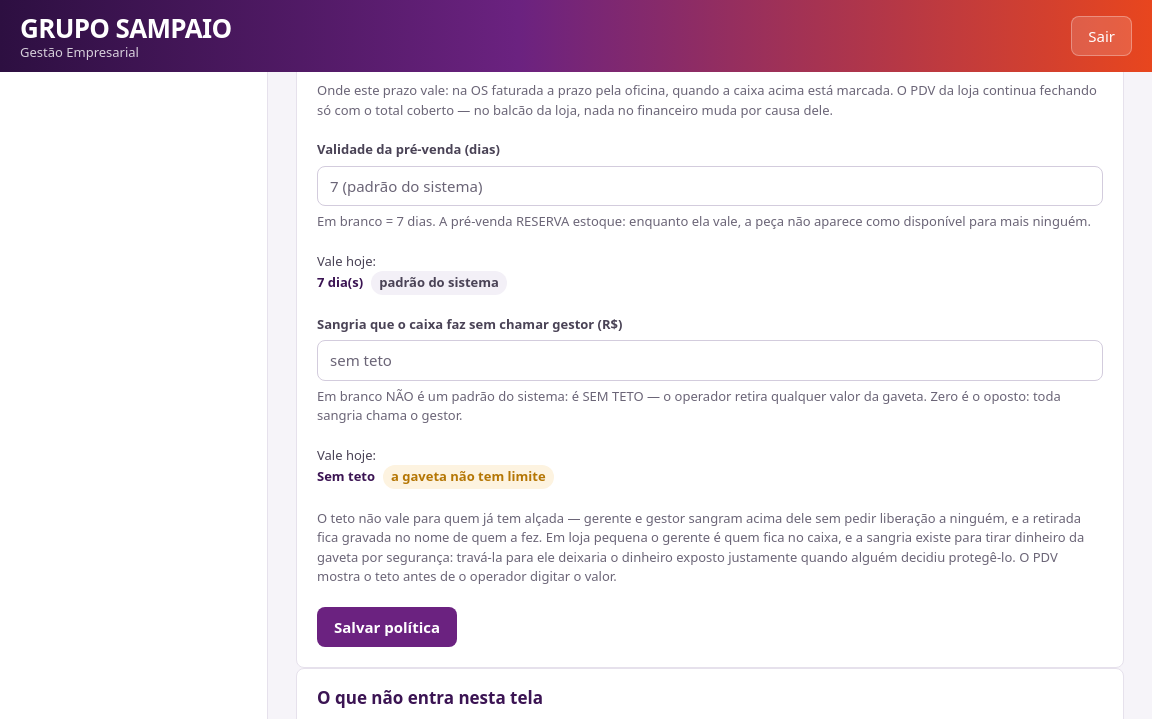
o teto da sangria: vazio é SEM TETO, e não um padrão escondido › "quinhentos" chega COMO "quinhentos", e o servidor é quem recusa
This screenshot has width=1152, height=719.
(page scrolled)
Type "quinhentos" into the field labelled "Sangria que o caixa faz sem chamar gestor (R$)" at x=710, y=360, box x1=317 y1=340 x2=1103 y2=380
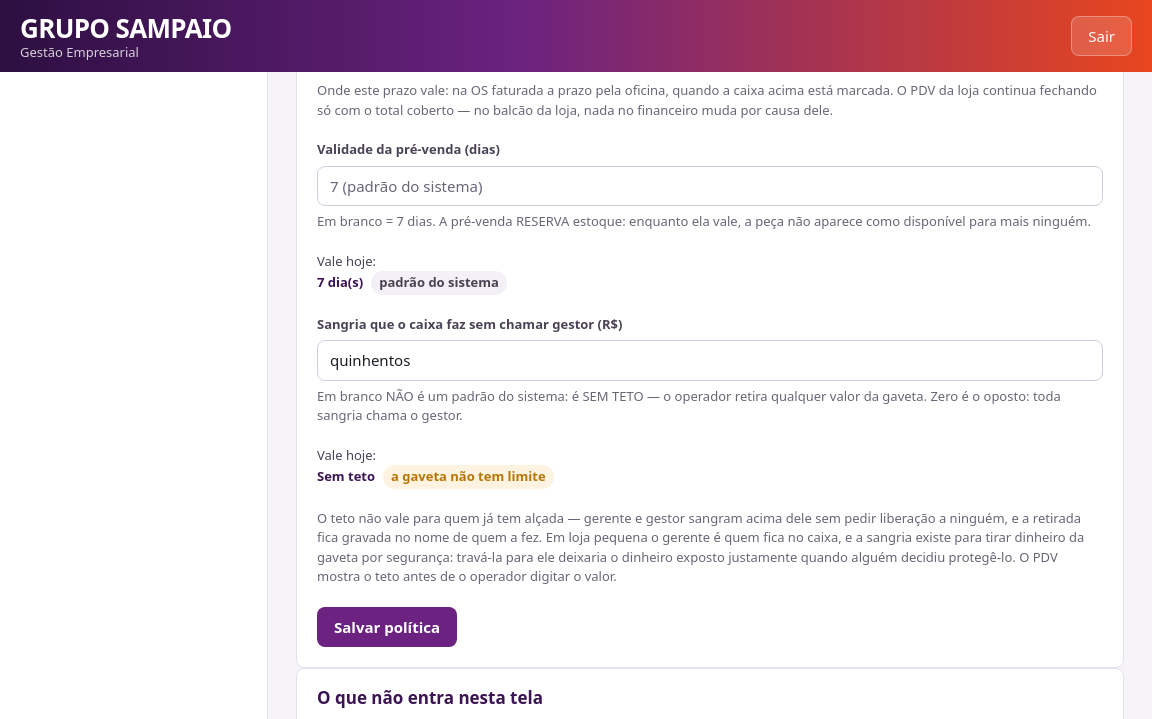
Click the button "Salvar política" at x=387, y=627, box x1=317 y1=606 x2=457 y2=647
(page scrolled)
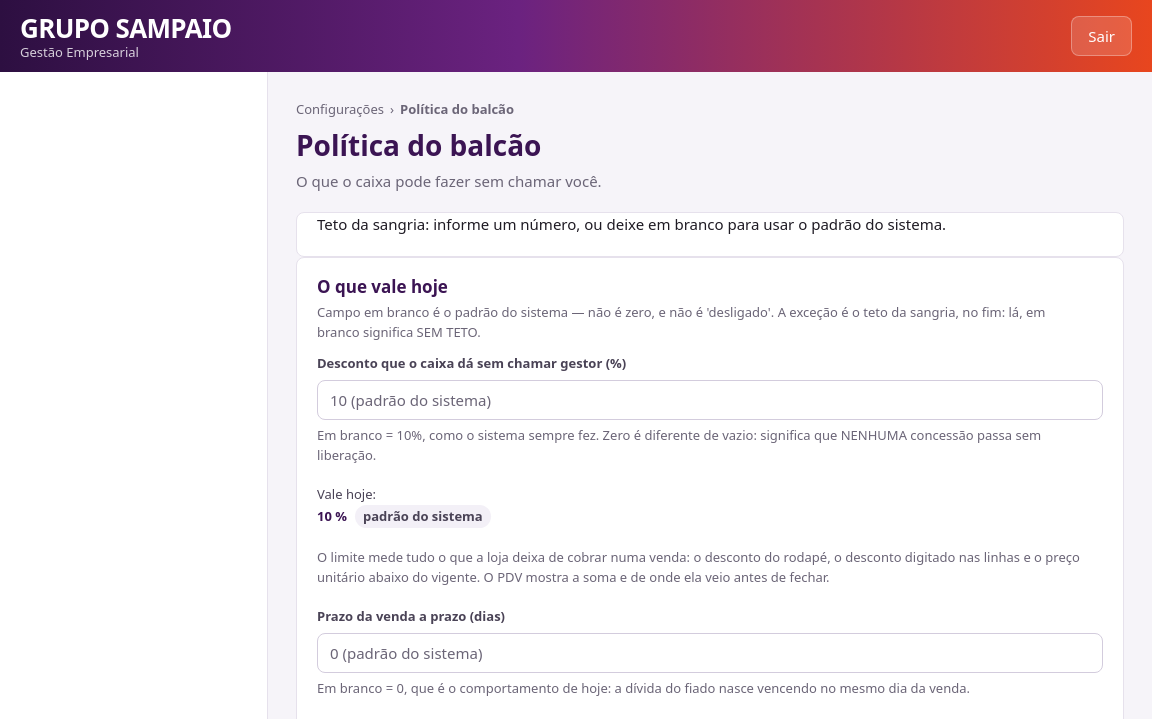
Expected: the text "Teto da sangria: informe um número" is shown, x1=317 y1=214 x2=946 y2=234
